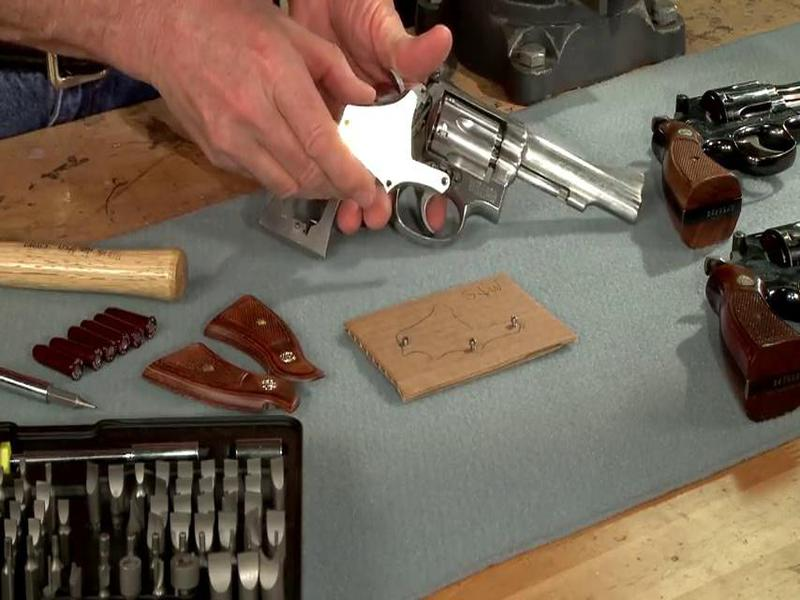Revolver: (250, 36, 680, 302)
